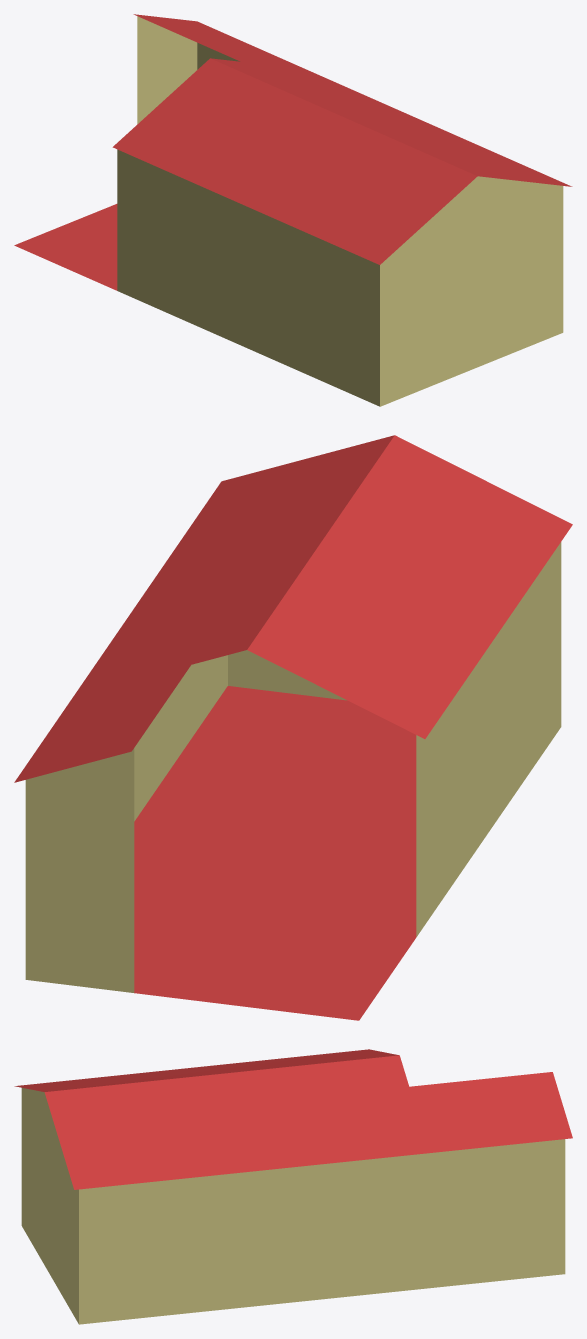
3 renders of one model, top to bottom at view 1: azimuth 30°, elevation 25°; view 2: azimuth 150°, elevation 25°; view 3: azimuth 270°, elevation 25°, orthographic. The views are drawn at different scales.
Size of the model in its own units: 13.94 by 21.64 by 7.88.
